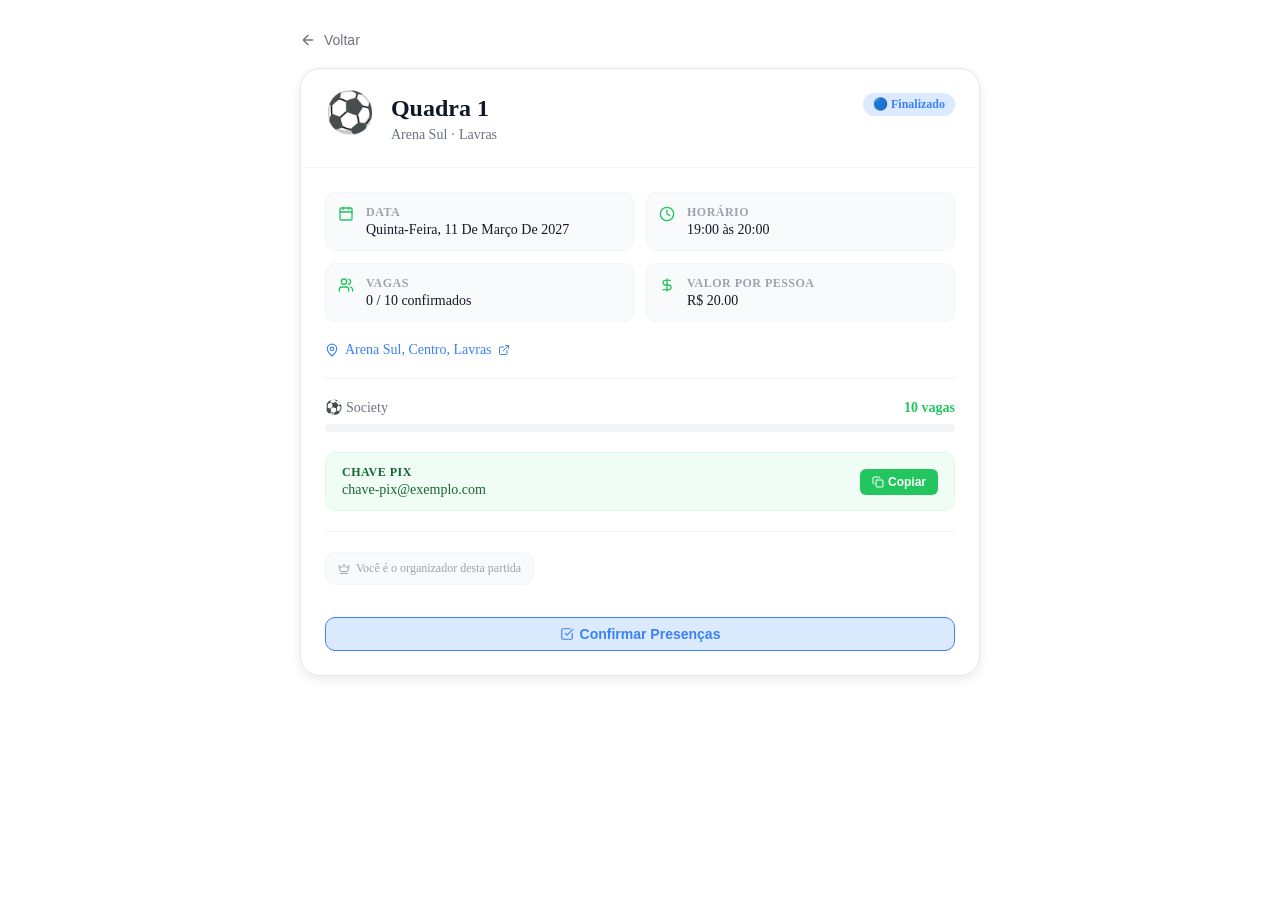
Test: PartidaDetail — confirmação de presenças › oferece a ação ao organizador quando a partida terminou
This screenshot has width=1280, height=900.
Click the button "Confirmar Presenças" at (640, 634), box [325,617,955,651]
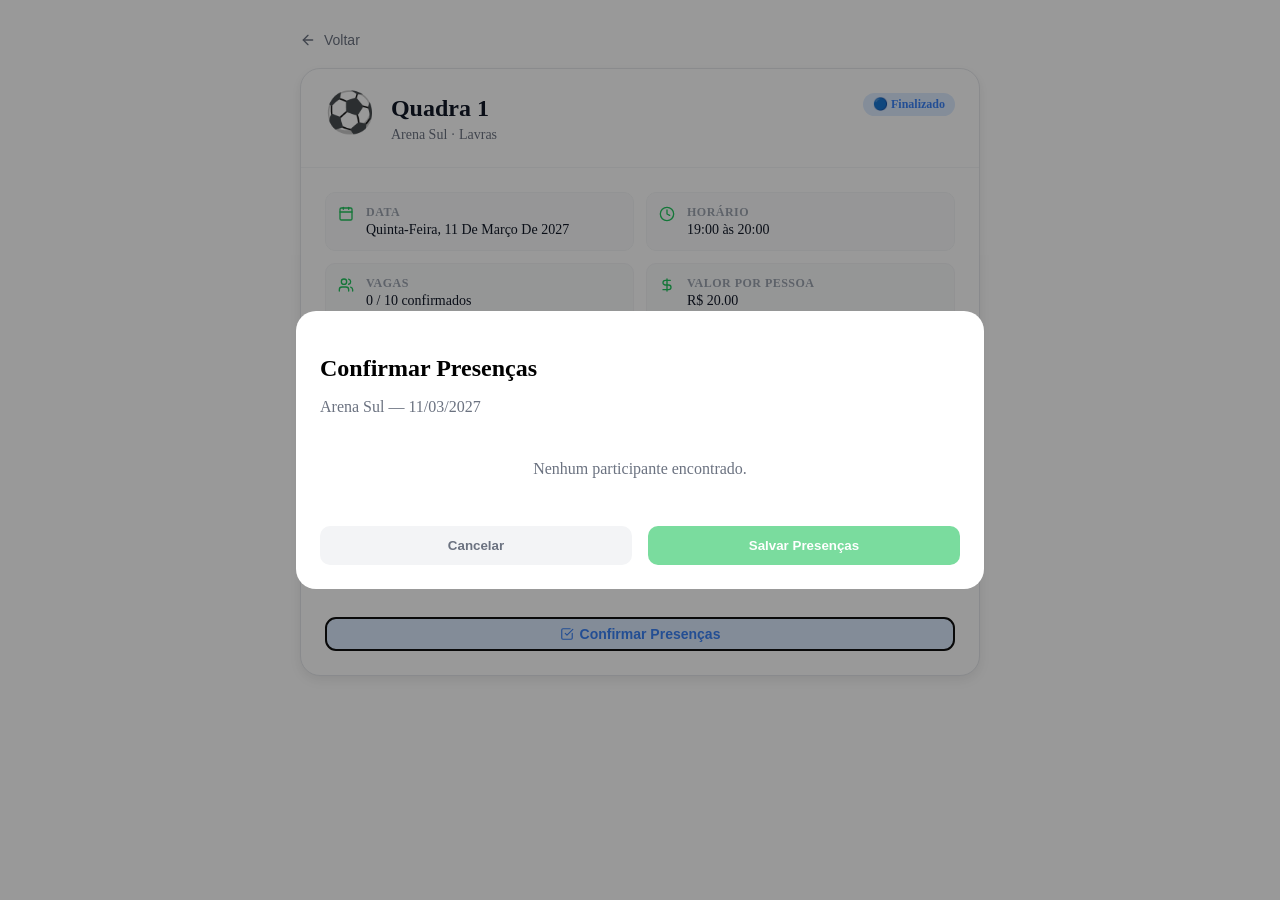
Check: the dialog "Confirmar Presenças" is shown, box [296,311,984,589]
